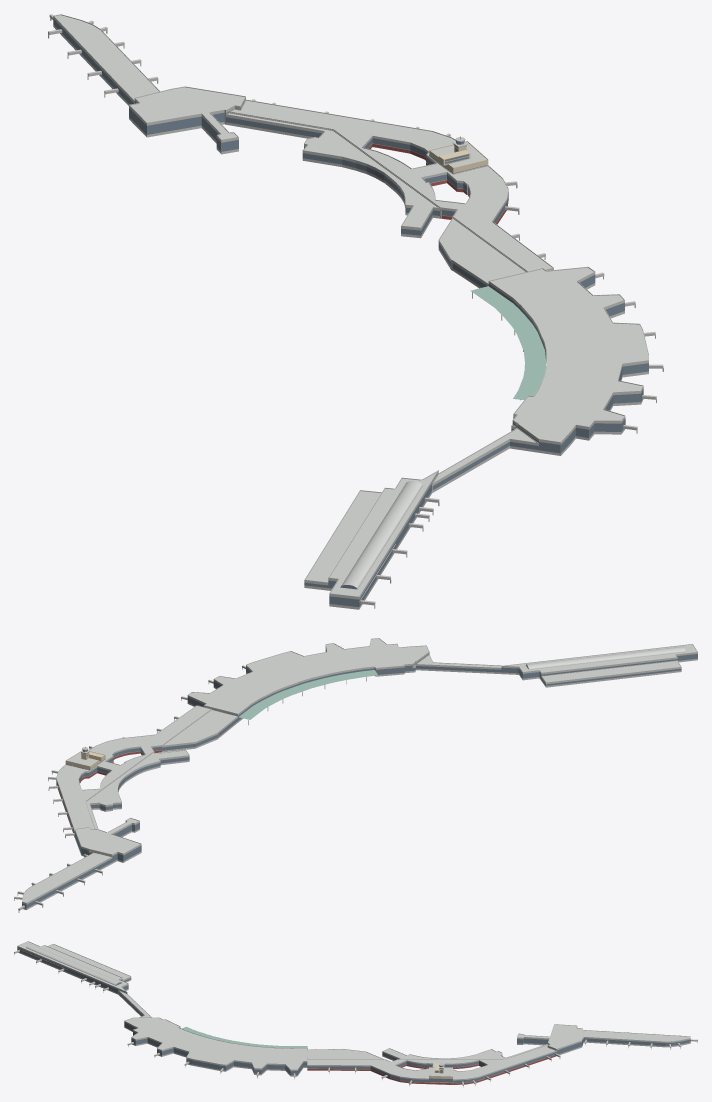
File: madrid-barajas-terminals-1-3.glb
3 renders of one model, top to bottom at view 1: azimuth 30°, elevation 25°; view 2: azimuth 150°, elevation 25°; view 3: azimuth 270°, elevation 25°, orthographic. The views are drawn at different scales.
Visible parts, largest first — view 1: Madrid-Barajas Terminals 1-3; view 2: Madrid-Barajas Terminals 1-3; view 3: Madrid-Barajas Terminals 1-3.
Part boxes in pixels (bbox=[...]): Madrid-Barajas Terminals 1-3: bbox=[48, 14, 663, 609]; Madrid-Barajas Terminals 1-3: bbox=[14, 638, 697, 912]; Madrid-Barajas Terminals 1-3: bbox=[14, 941, 697, 1087].
Bounding box in the file's own units: 737 × 42.5 × 1521.
